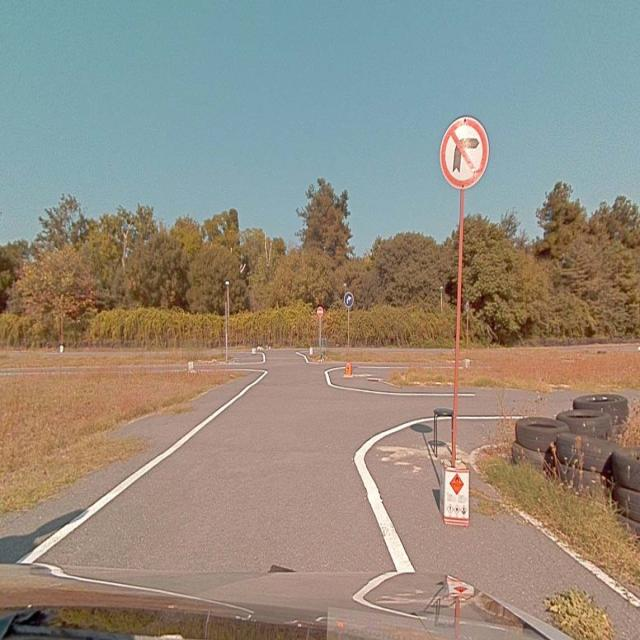girisyok: (317, 306, 323, 317)
sag: (344, 292, 354, 308)
sagadonulmez: (439, 118, 488, 190)
